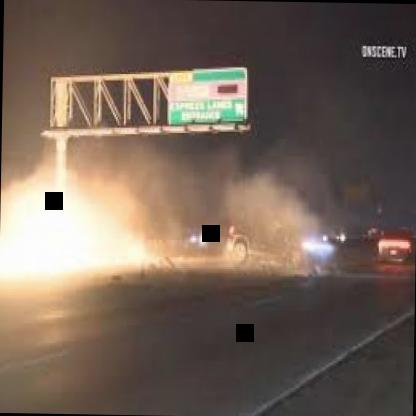fire: (2, 162, 162, 280)
